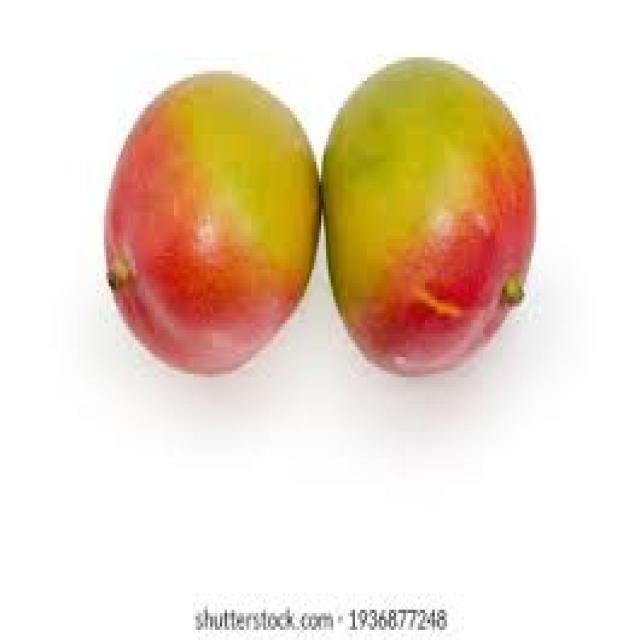Mango: (323, 56, 539, 381), (104, 70, 324, 378)
